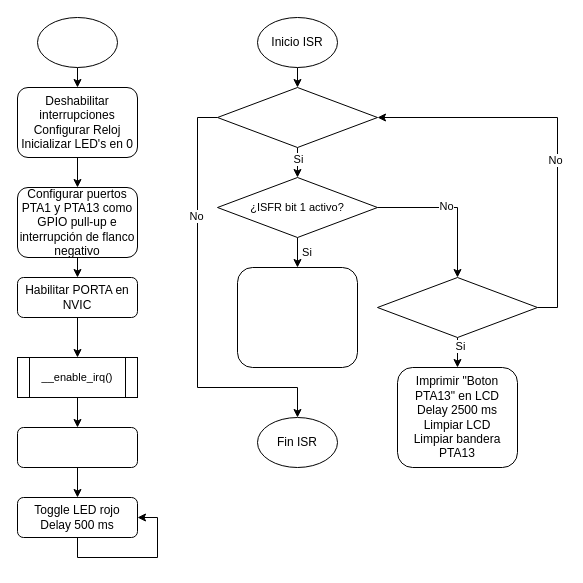
The diagram is 583 pixels wide and 583 high, and some of its shapes have lost their labels. Each missing label, with the centre of its shape:
Imprimir "Boton PTA1" en LCD Delay 2500 ms Limpiar LCD Limpiar bandera PTA1: [297,317]
Inicializar LCD: [77,447]
Inicio: [77,42]
¿ISFR bit 13 activo?: [457,307]
¿ISFR tiene bits 1 o 13 activos?: [297,117]
